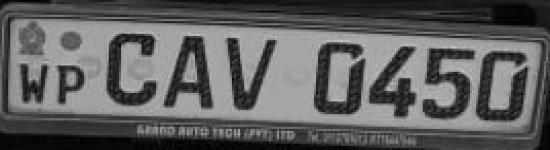0: (309, 34, 368, 119), (478, 44, 530, 128)
4: (368, 40, 420, 122)
5: (419, 42, 477, 124)
A: (159, 28, 218, 116)
C: (103, 28, 159, 110)
P: (53, 63, 86, 108)
V: (220, 31, 281, 118)
W: (16, 59, 51, 107)
